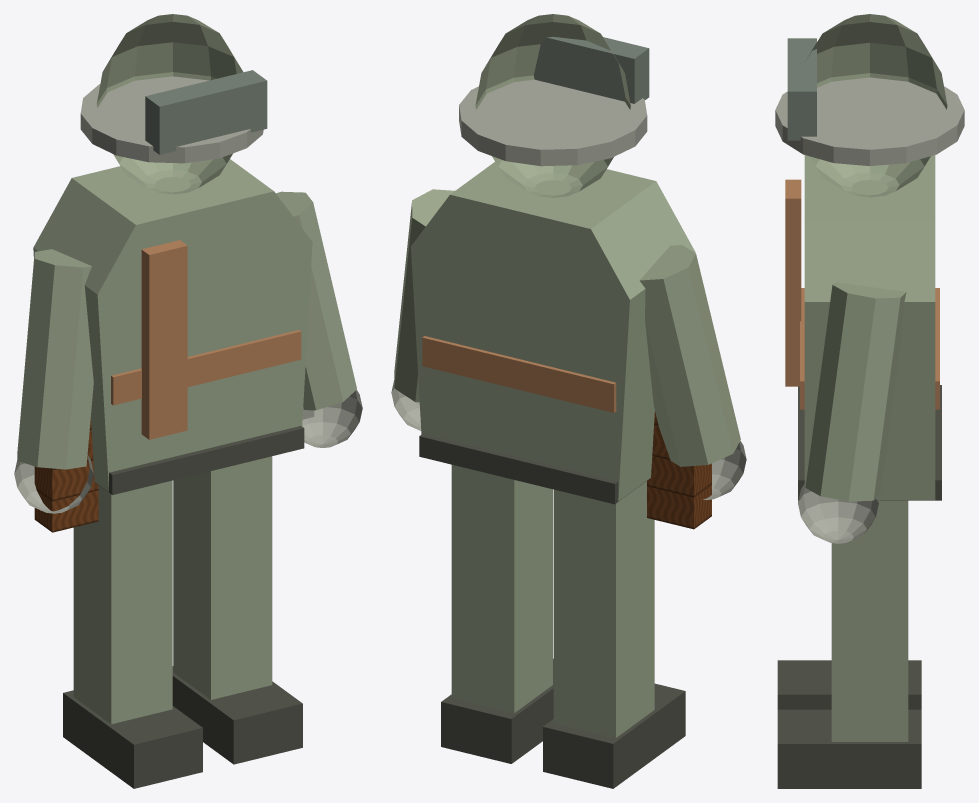
Rendered from warehouse-worker.glb.
The picture shows the model from 3 angles, left to right: view 1: azimuth 30°, elevation 25°; view 2: azimuth 150°, elevation 25°; view 3: azimuth 270°, elevation 25°; orthographic projection.
Visible parts, largest first — view 1: shell, dark, accent, metal, glass, wood; view 2: shell, dark, metal, accent, glass, wood; view 3: shell, metal, dark, accent, glass.
Part boxes in pixels (x1,y1,x2,y2): shell: [17, 14, 356, 724]; dark: [63, 426, 304, 788]; accent: [111, 240, 301, 439]; metal: [14, 76, 362, 513]; glass: [145, 70, 267, 154]; wood: [34, 417, 98, 532]; shell: [394, 14, 740, 737]; dark: [419, 433, 685, 788]; metal: [391, 79, 746, 499]; accent: [422, 336, 616, 412]; glass: [533, 36, 649, 103]; wood: [647, 411, 711, 529]; shell: [804, 14, 947, 741]; metal: [775, 77, 964, 543]; dark: [777, 385, 941, 788]; accent: [785, 179, 939, 409]; glass: [787, 38, 816, 140].
Bounding box in the file's own units: 0.88 × 1.78 × 0.4199.
6 materials, 1 textured.
